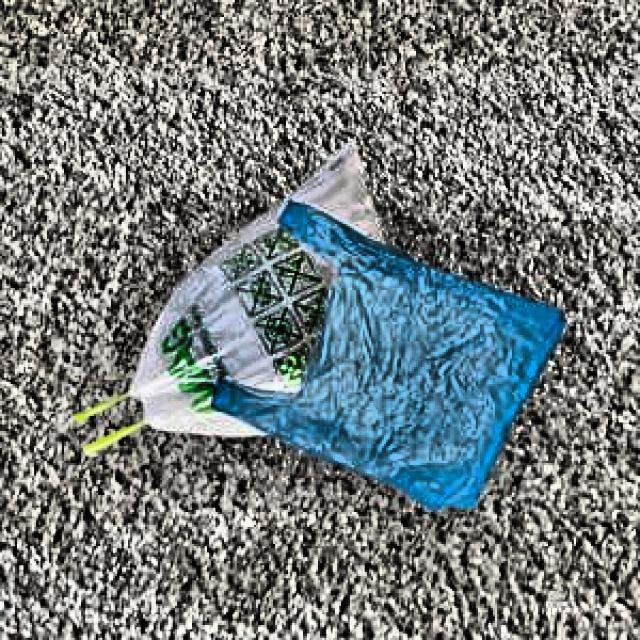Plastic: (193, 196, 570, 520), (70, 155, 437, 480)
